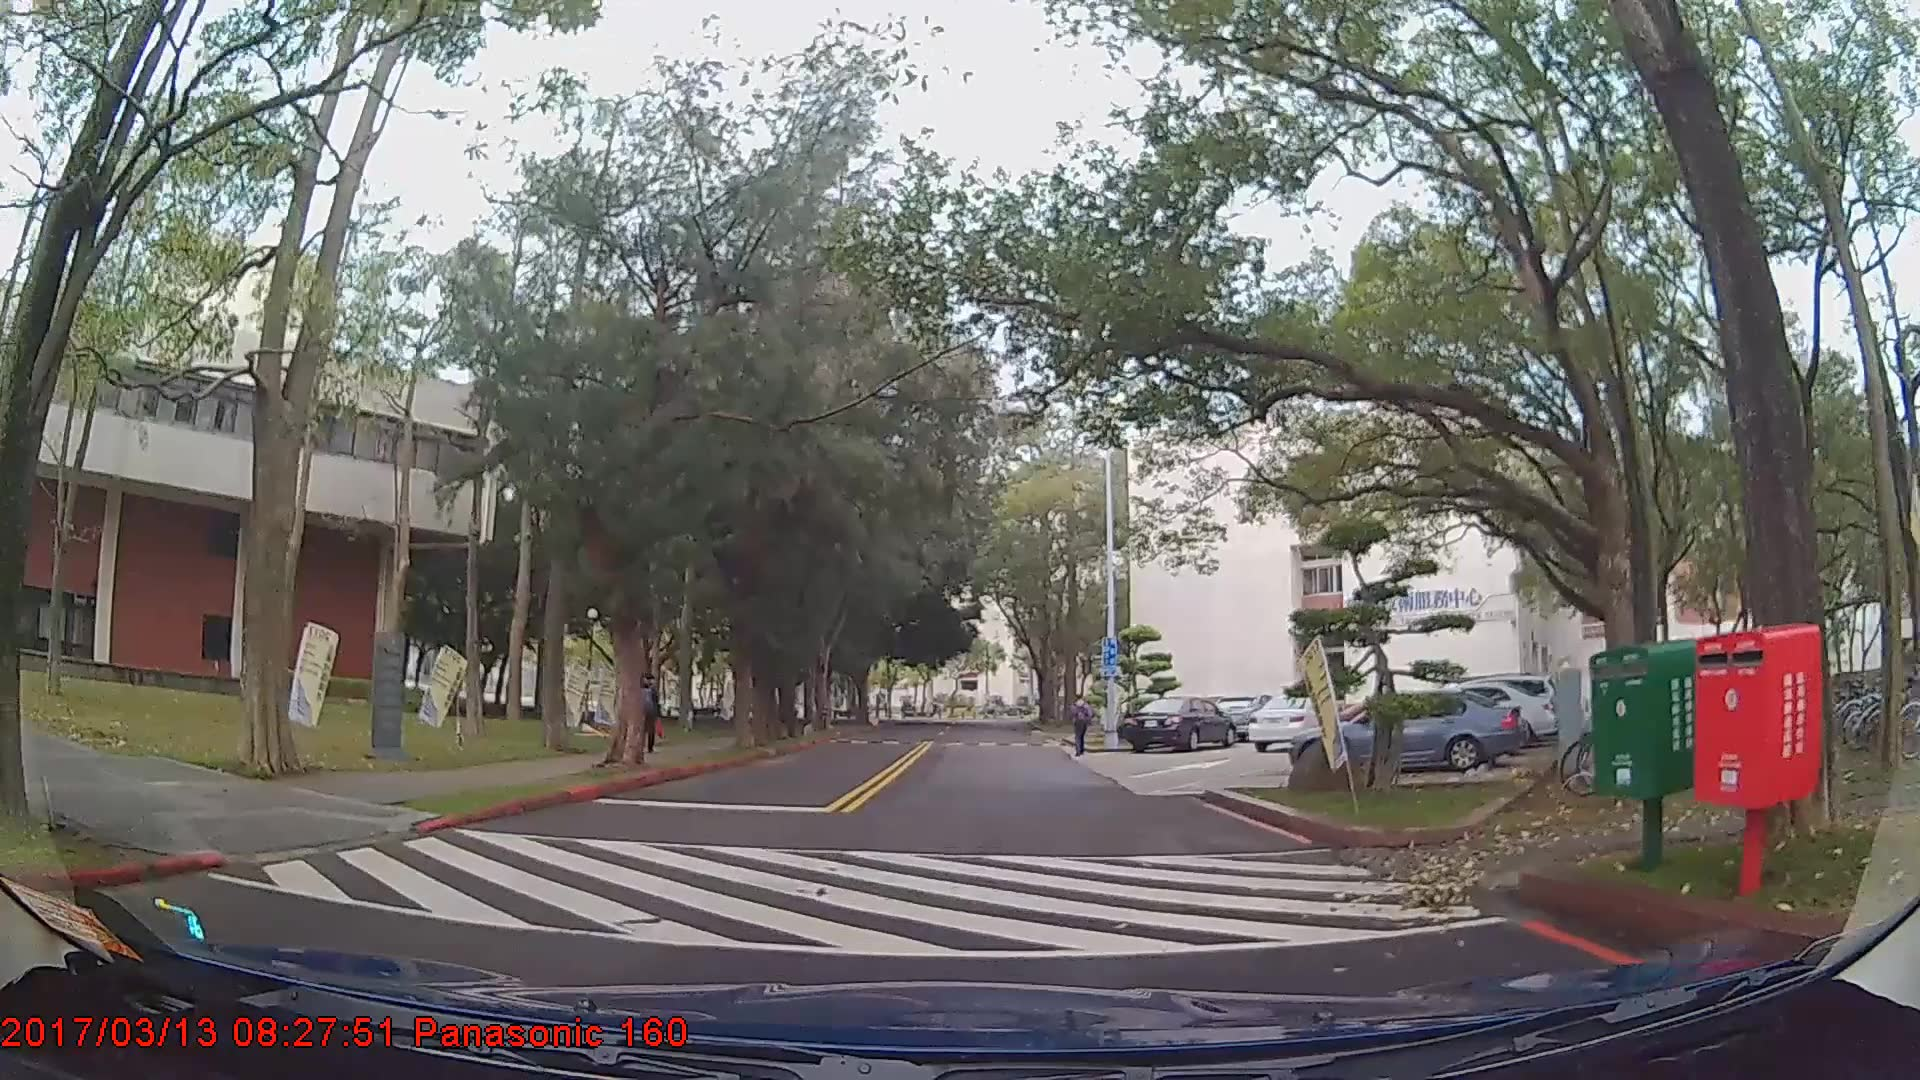pedestrian: (632, 672, 663, 755), (1068, 693, 1097, 758)
vehicle: (1290, 686, 1525, 776), (1397, 680, 1556, 746), (1120, 696, 1236, 752), (1247, 692, 1341, 752)
